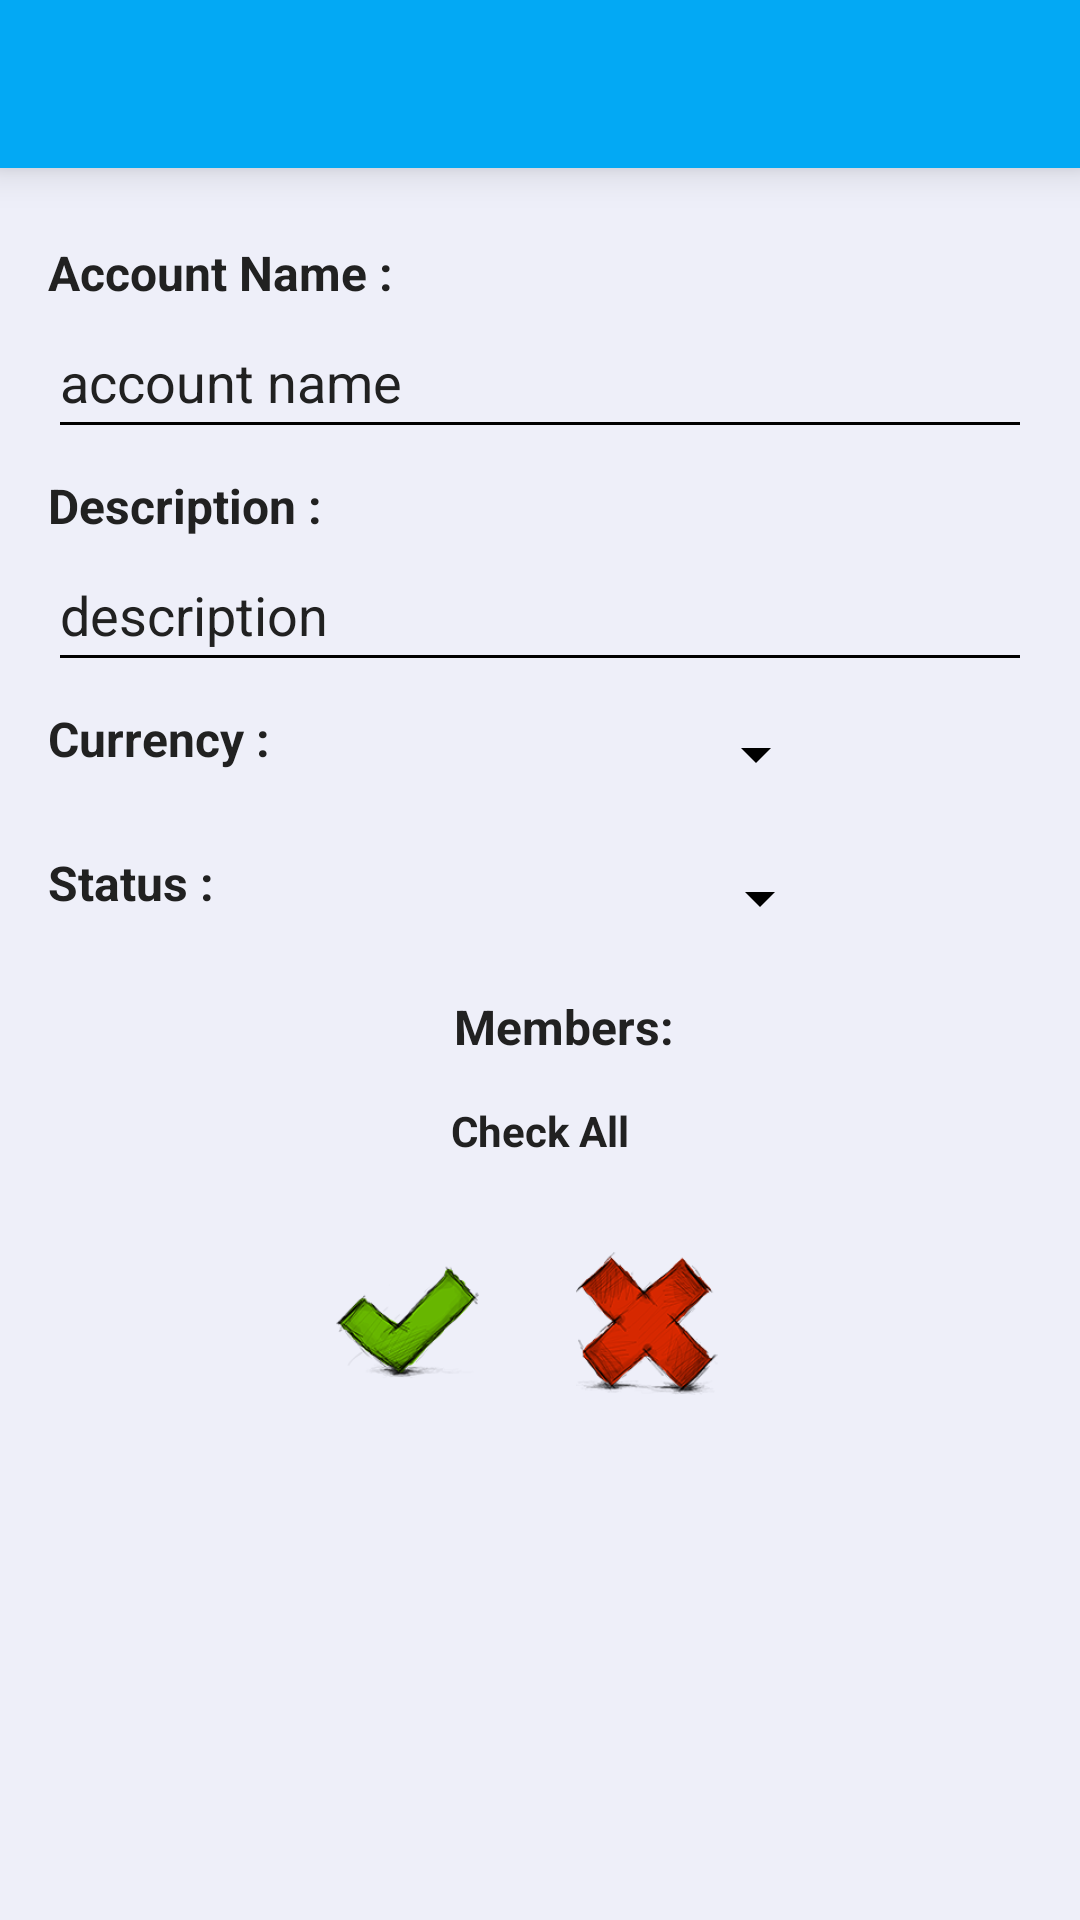

Screen size 1080*1920. Icon name, then its center in pixels as (x,y):
cancel: (646,1323)
